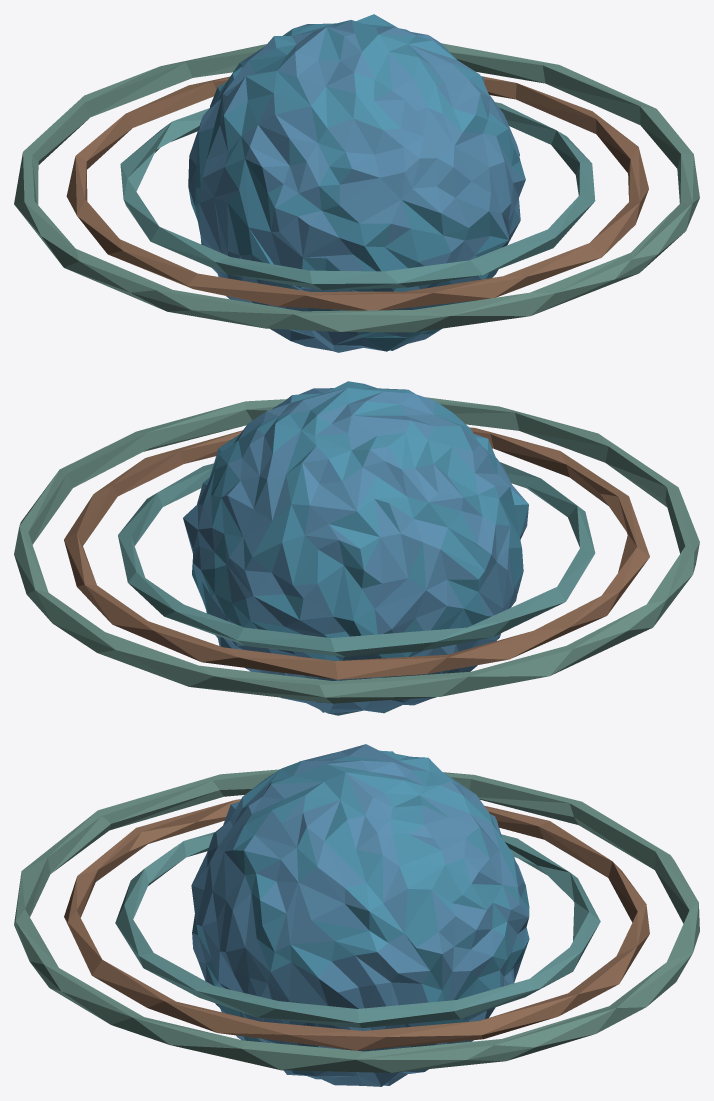
File: uranus.glb
3 views of the same model, one above another, from view 1: azimuth 30°, elevation 25°; view 2: azimuth 150°, elevation 25°; view 3: azimuth 270°, elevation 25° (orthographic).
Size of the model in its own units: 73.15 by 35.97 by 72.79.
Materials: 1 (1 with a texture image).
